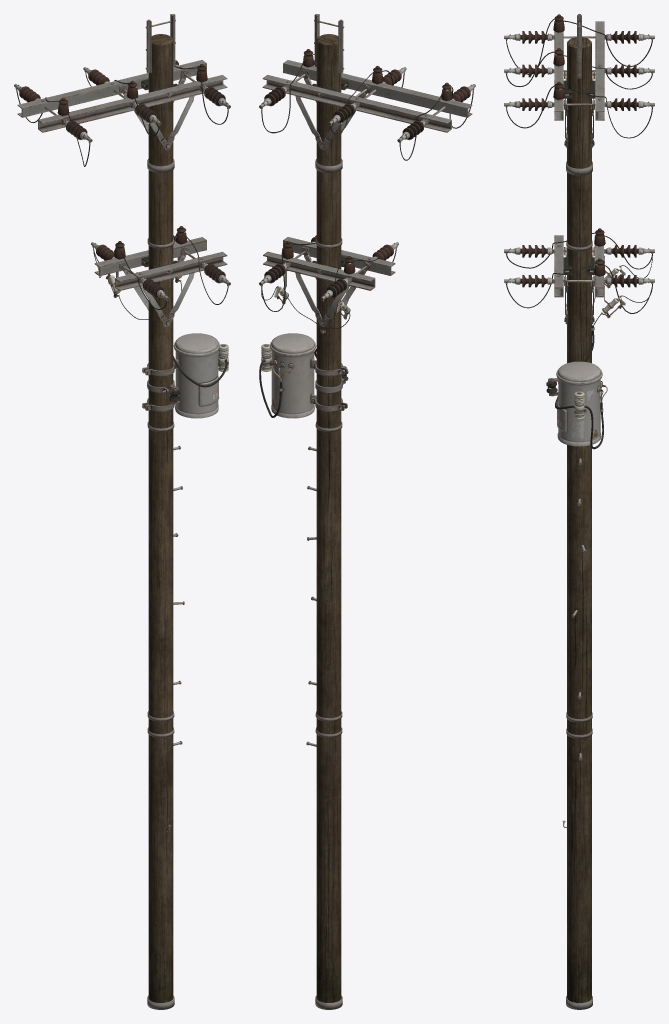
File: modular_electricity_poles_1k_1.glb
The picture shows the model from 3 angles, left to right: view 1: azimuth 30°, elevation 25°; view 2: azimuth 150°, elevation 25°; view 3: azimuth 270°, elevation 25°; orthographic projection.
Visible parts, largest first — view 1: preset_03_pole, preset_03_connection_large_offset_01, preset_03_connection_small_01_02, preset_03_transformer_01, preset_03_cap; view 2: preset_03_pole, preset_03_connection_large_offset_01, preset_03_connection_small_01_02, preset_03_transformer_01, preset_03_fuse_01, preset_03_cap; view 3: preset_03_pole, preset_03_connection_large_offset_01, preset_03_connection_small_01_02, preset_03_transformer_01, preset_03_fuse_01.
Boxes of the visible parts, left/top/right/bottom form: preset_03_pole: left=148, top=34, right=173, bottom=1002; preset_03_connection_large_offset_01: left=14, top=60, right=230, bottom=166; preset_03_connection_small_01_02: left=91, top=226, right=230, bottom=326; preset_03_transformer_01: left=142, top=333, right=228, bottom=418; preset_03_cap: left=145, top=14, right=175, bottom=72; preset_03_pole: left=316, top=34, right=341, bottom=1002; preset_03_connection_large_offset_01: left=259, top=49, right=475, bottom=160; preset_03_connection_small_01_02: left=259, top=235, right=398, bottom=326; preset_03_transformer_01: left=259, top=328, right=347, bottom=418; preset_03_fuse_01: left=261, top=270, right=350, bottom=330; preset_03_cap: left=314, top=14, right=344, bottom=72; preset_03_pole: left=567, top=37, right=591, bottom=1002; preset_03_connection_large_offset_01: left=504, top=14, right=654, bottom=147; preset_03_connection_small_01_02: left=504, top=228, right=654, bottom=324; preset_03_transformer_01: left=555, top=325, right=607, bottom=449; preset_03_fuse_01: left=591, top=254, right=652, bottom=328.
Size of the model in its own units: 1.29 by 6.13 by 0.8522.
Materials: 2 (2 with a texture image).
